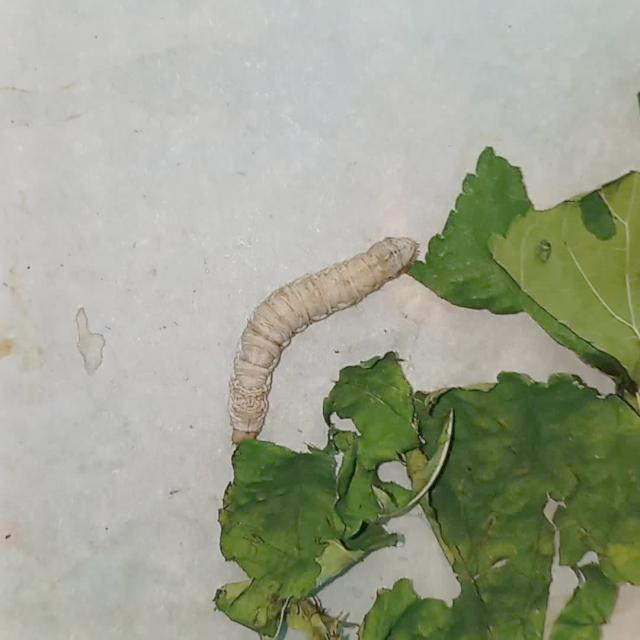Grasserie: (211, 222, 427, 456)
